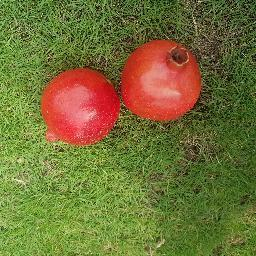Good_pomegranate: (122, 39, 204, 128), (36, 63, 119, 148)
